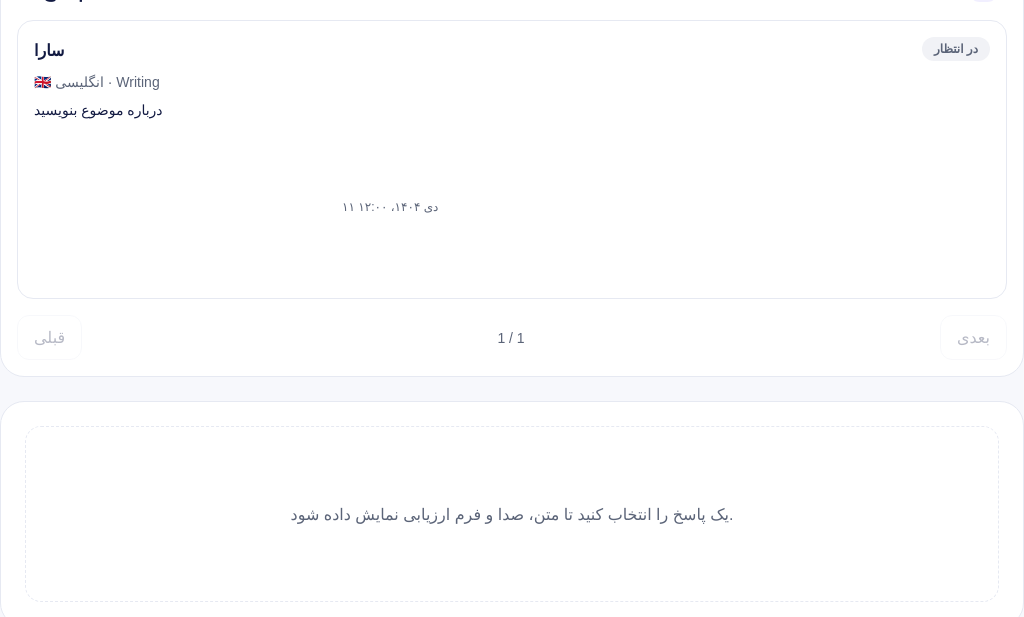
Test case: ExaminerReviewManager › shows a recoverable error when claiming an answer fails
Click the button "سارا" at (512, 282), box [17,20,1007,299]
(page scrolled)
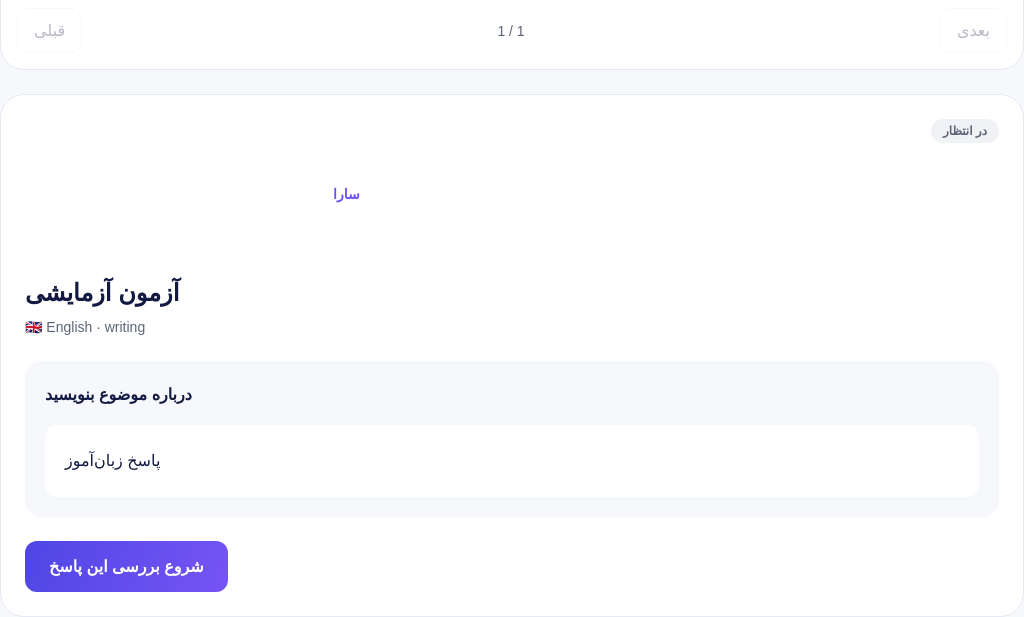
Click the button "شروع بررسی این پاسخ" at (126, 566), box [25,541,228,592]
(page scrolled)
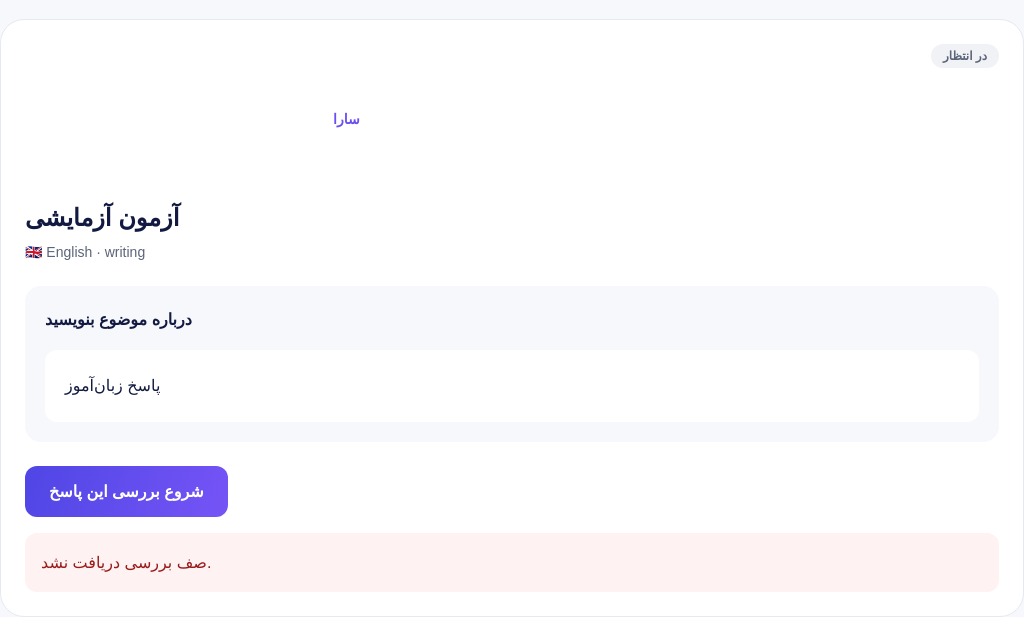
Result: the message shows "صف بررسی دریافت نشد" at [41,554,211,571]
